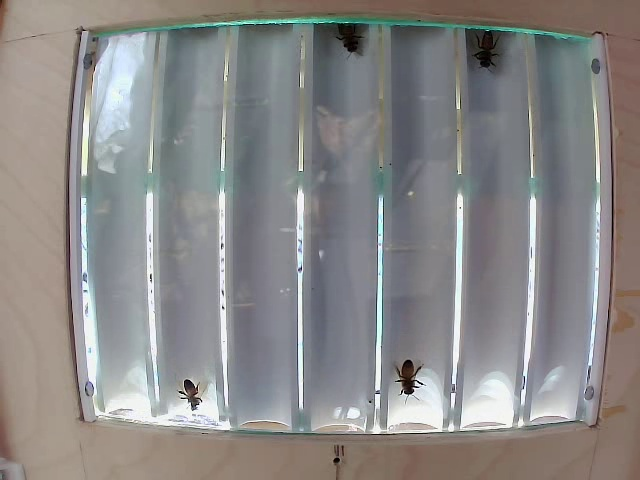bee: (386, 351, 438, 404), (172, 368, 212, 409), (475, 27, 502, 83), (335, 15, 364, 57)
